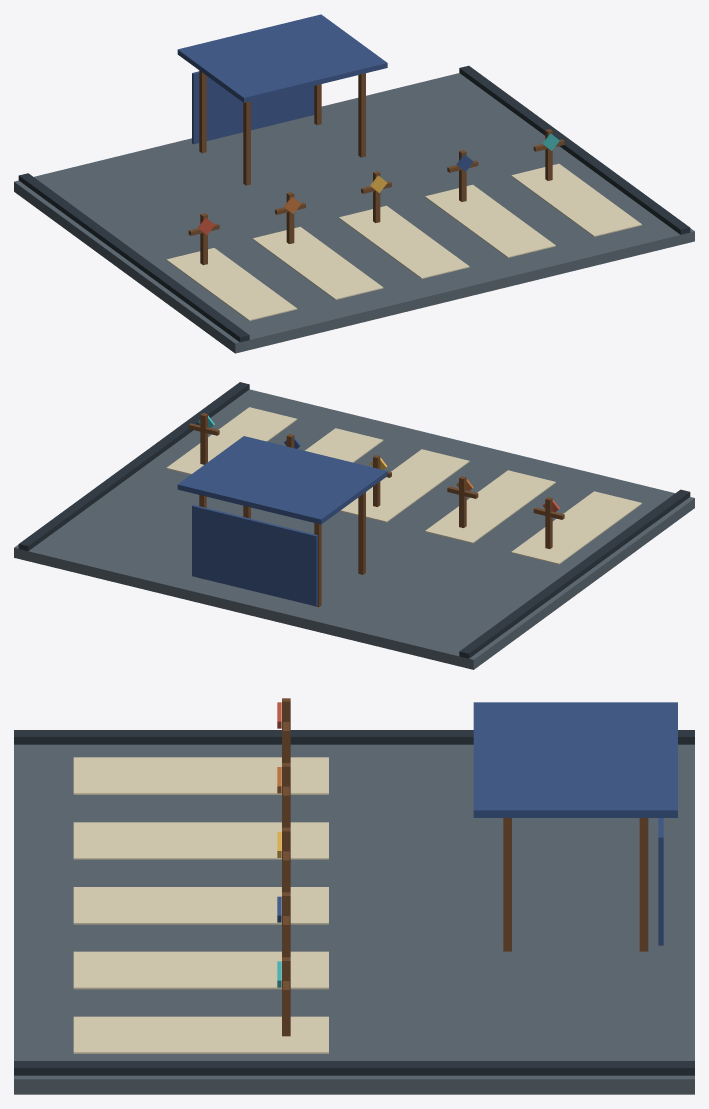
Rendered from training_camp.glb.
3 renders of one model, top to bottom at view 1: azimuth 30°, elevation 25°; view 2: azimuth 150°, elevation 25°; view 3: azimuth 270°, elevation 25°, orthographic. The views are drawn at different scales.
Parts seen in each view (by area): view 1: training_camp; view 2: training_camp; view 3: training_camp.
Boxes of the visible parts, x1,y1,x2,y2 form: training_camp: (14, 14, 694, 353); training_camp: (14, 382, 694, 669); training_camp: (14, 698, 694, 1094).
Size of the model in its own units: 48 by 10.75 by 40.
